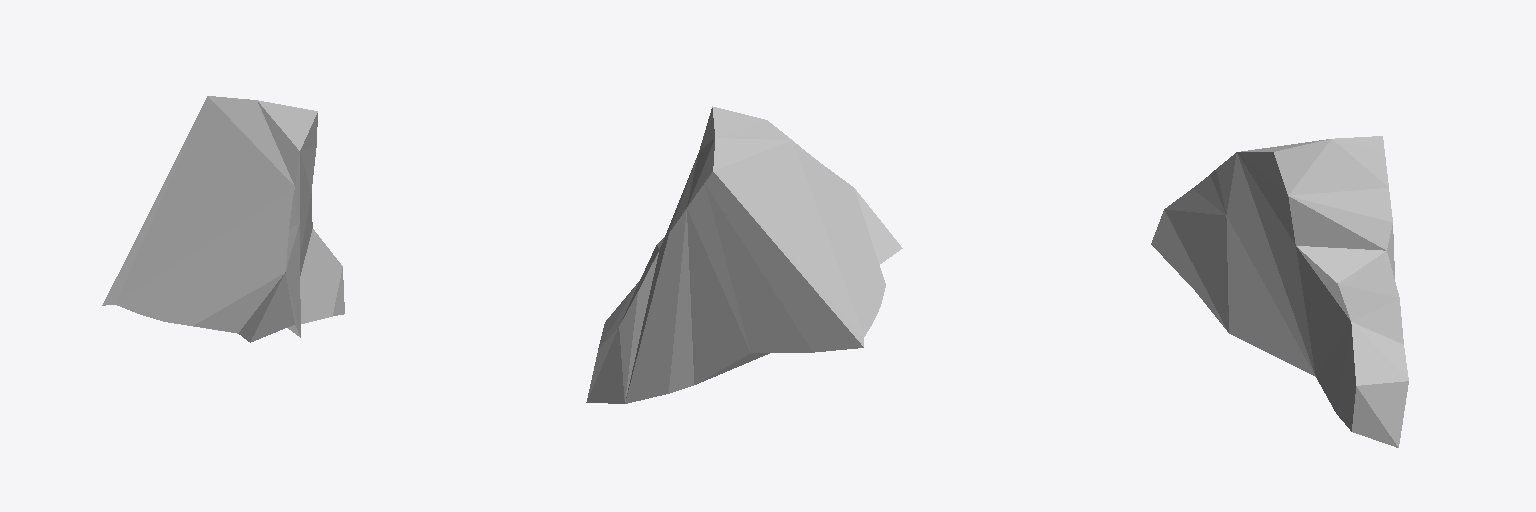
The model's file is ShatterPar01.obj.
3 views of the same model, side by side, from view 1: azimuth 30°, elevation 25°; view 2: azimuth 150°, elevation 25°; view 3: azimuth 270°, elevation 25° (orthographic).
Parts seen in each view (by area): view 1: ShatterPar01; view 2: ShatterPar01; view 3: ShatterPar01.
Part boxes in pixels (bbox=[...]): ShatterPar01: bbox=[102, 96, 344, 342]; ShatterPar01: bbox=[586, 106, 902, 403]; ShatterPar01: bbox=[1151, 136, 1408, 447].
Bounding box in the file's own units: 0.7624 × 0.7736 × 0.6817.